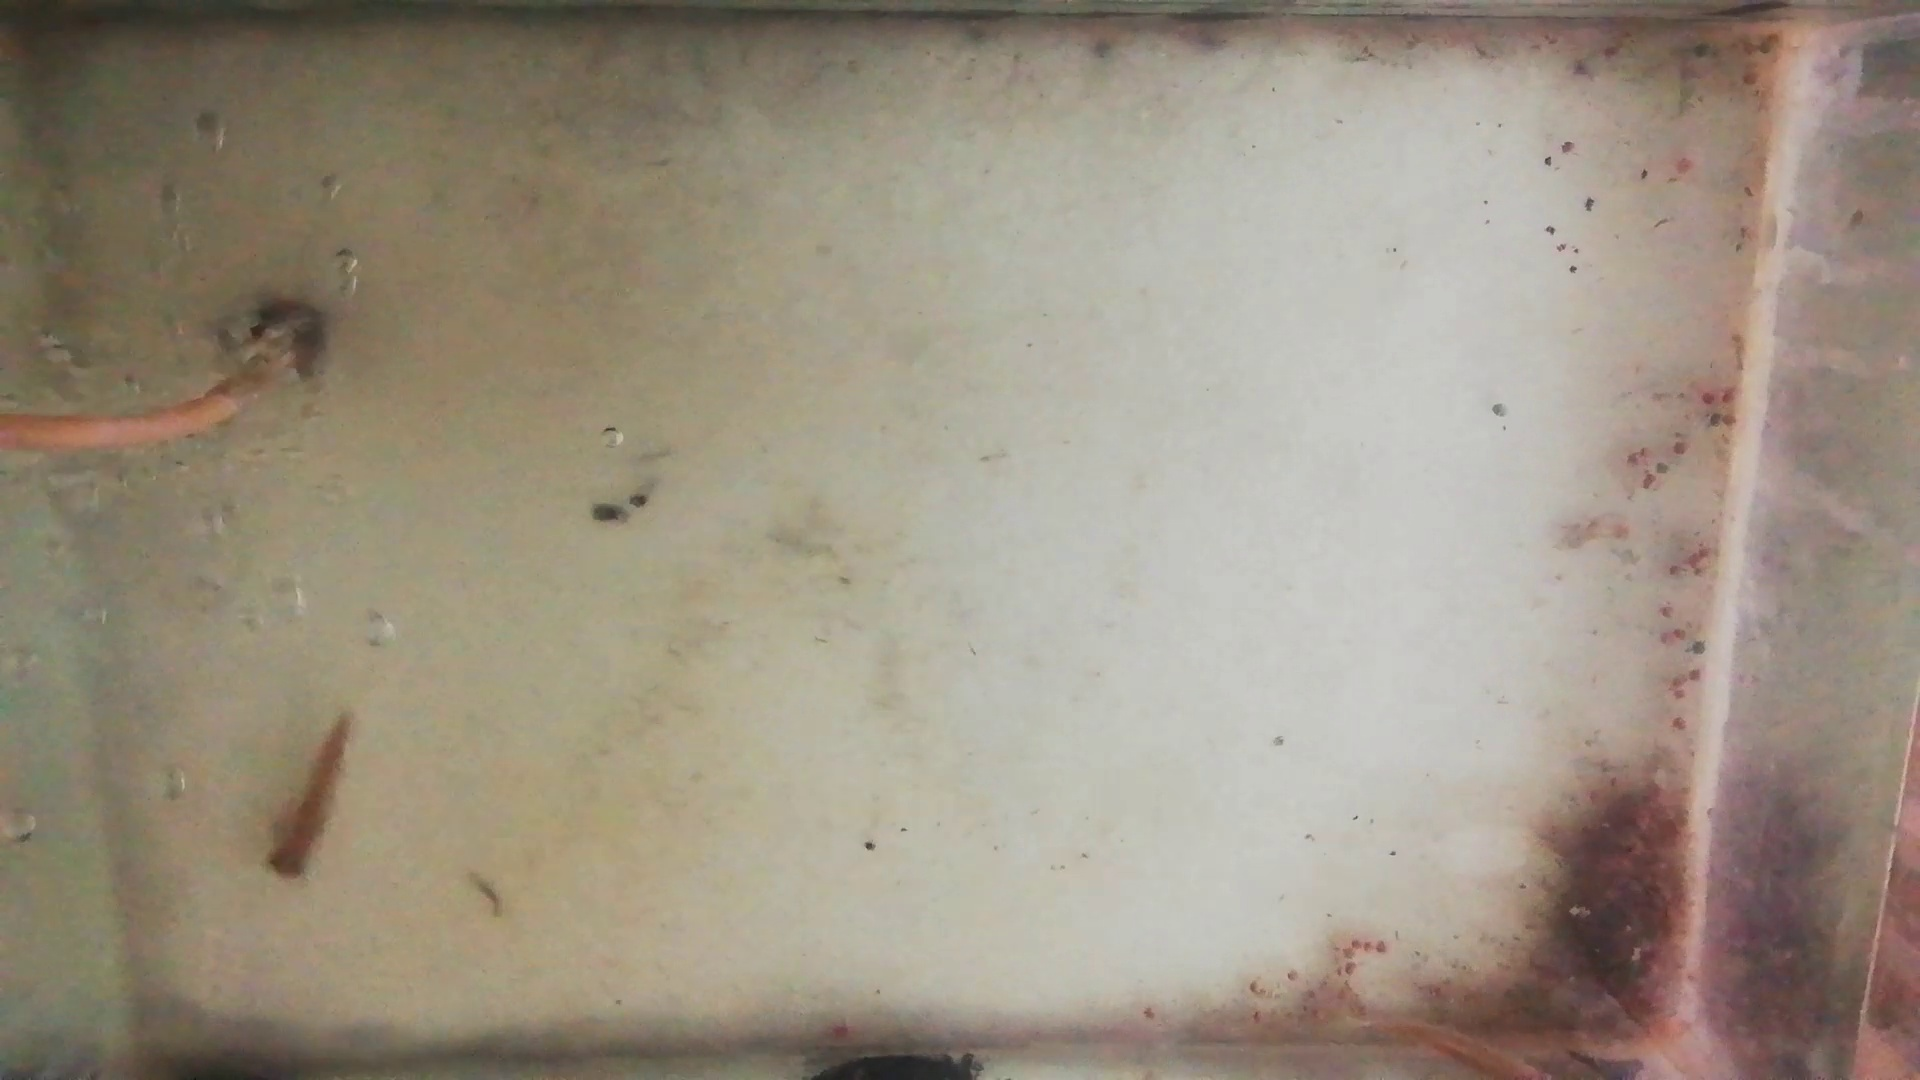fish: (266, 709, 357, 881), (1364, 1018, 1530, 1079)
